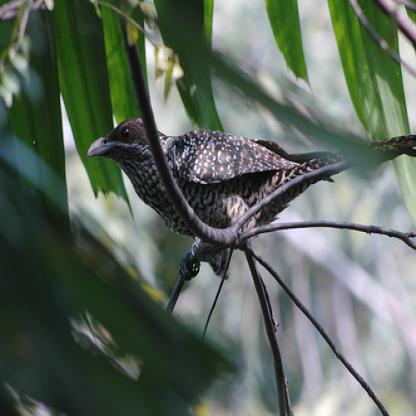bird: (87, 118, 415, 282)
